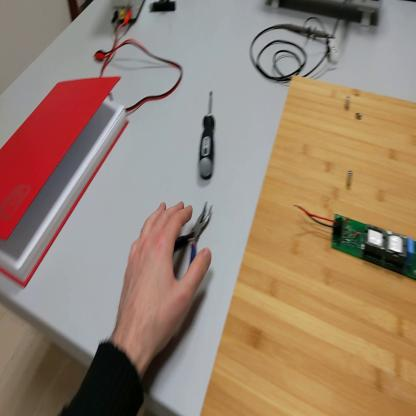hand: (114, 200, 212, 360)
high voltage board: (293, 203, 416, 282)
oscilloscope: (268, 2, 382, 28)
oscilloscope probe tip: (280, 21, 334, 44)
pliers: (176, 201, 216, 265)
power supply: (114, 2, 146, 26)
register: (1, 71, 128, 290)
screwdriver-: (199, 91, 219, 183)
working area: (201, 79, 416, 415)
